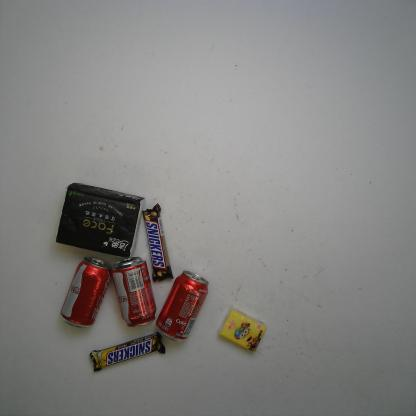Chocolate: (89, 330, 166, 372), (141, 203, 175, 283)
Drink: (154, 270, 210, 344), (58, 256, 110, 330), (109, 256, 158, 328)
Tissue: (54, 182, 145, 258), (216, 307, 268, 352)
